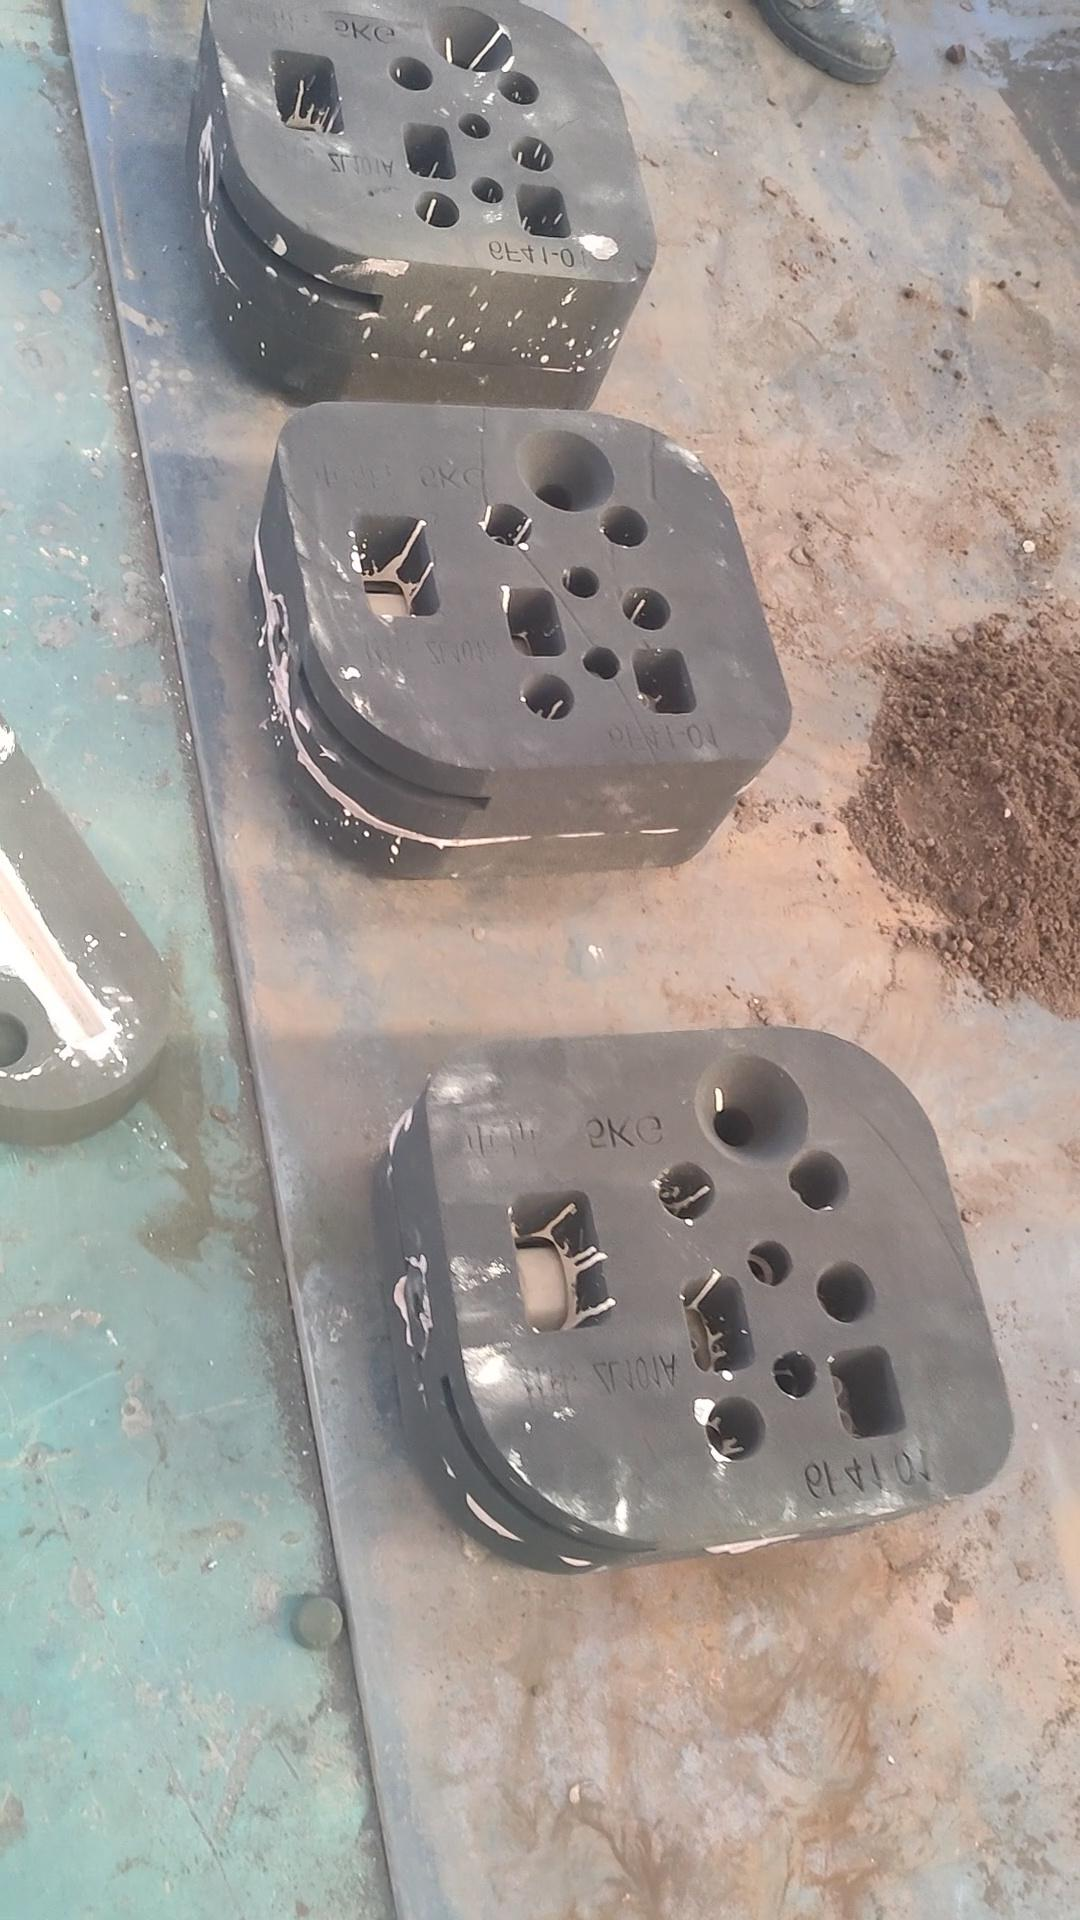pouring hole: (694, 1052, 808, 1162), (516, 429, 616, 512), (425, 8, 512, 71)
